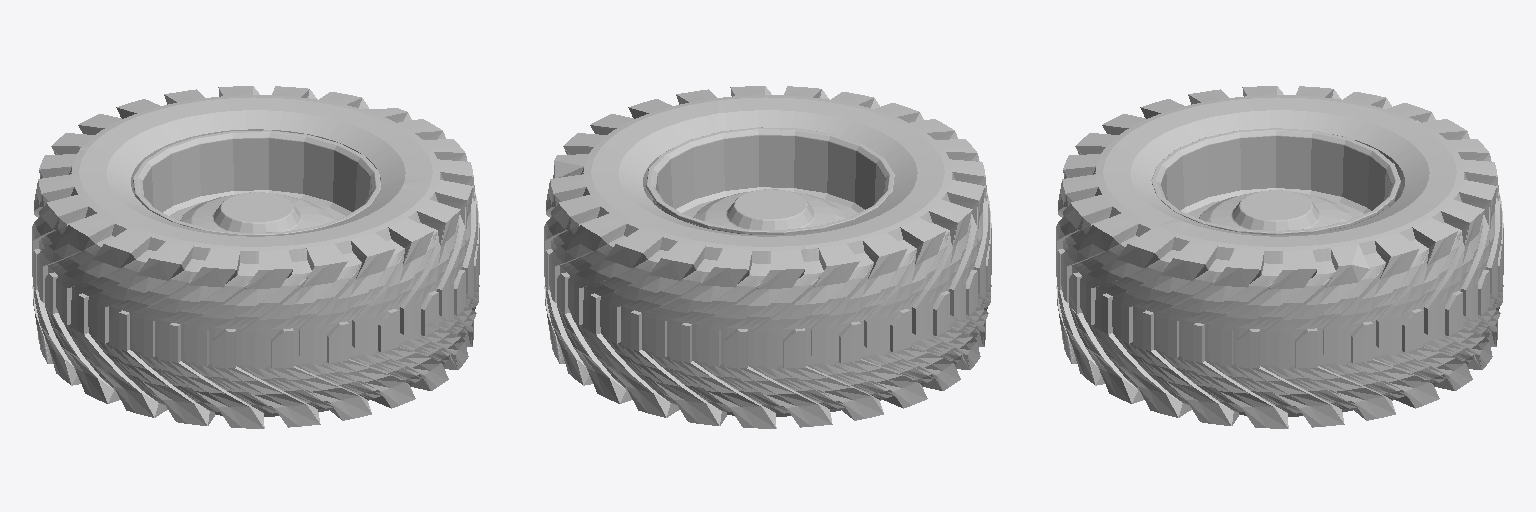
The model's file is tire3.obj.
The picture shows the model from 3 angles: view 1: azimuth 30°, elevation 25°; view 2: azimuth 150°, elevation 25°; view 3: azimuth 270°, elevation 25°; orthographic projection.
Parts seen in each view (by area): view 1: tire; view 2: tire; view 3: tire.
Part boxes in pixels (x1,y1,x2,y2): tire: (32,86,479,428); tire: (544,86,991,428); tire: (1056,86,1503,428).
Bounding box in the file's own units: 3.01 × 1.25 × 3.01.